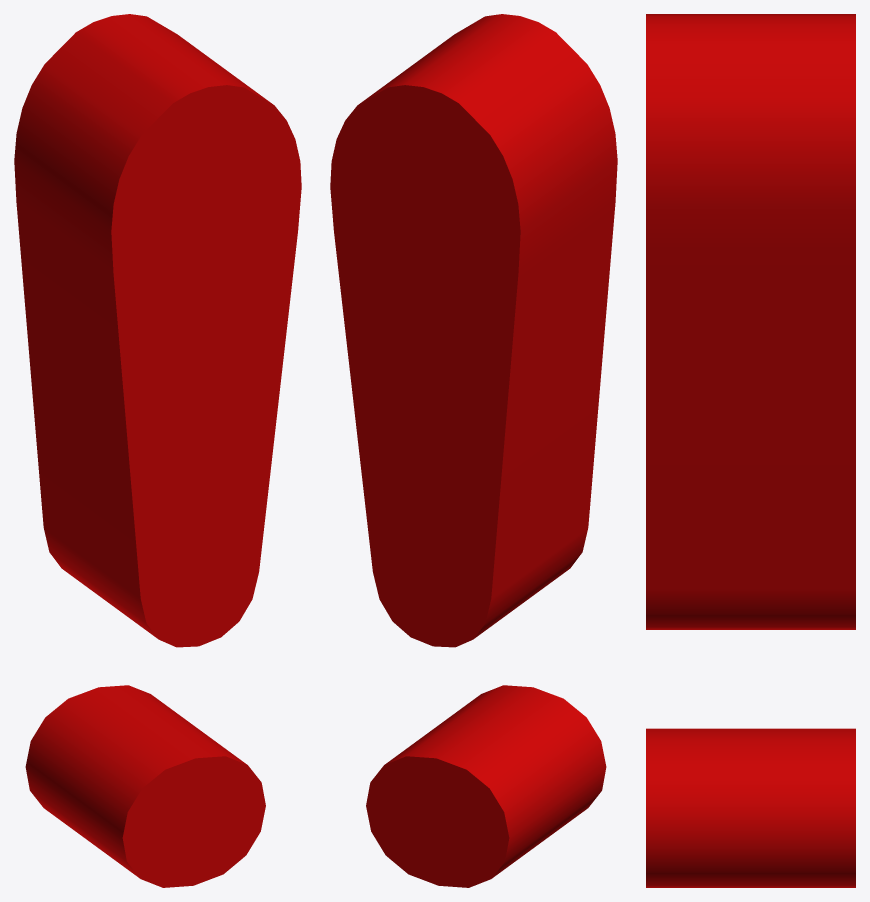
File: Exlamation.dae
3 views of the same model, side by side, from view 1: azimuth 30°, elevation 25°; view 2: azimuth 150°, elevation 25°; view 3: azimuth 270°, elevation 25° (orthographic). The views are drawn at different scales.
Parts seen in each view (by area): view 1: typeMesh1; view 2: typeMesh1; view 3: typeMesh1.
Part boxes in pixels (box(x1,y1,x2,y2)): typeMesh1: box(14, 14, 301, 887); typeMesh1: box(330, 14, 617, 887); typeMesh1: box(646, 14, 855, 887).
Size of the model in its own units: 2 by 7.96 by 1.76.
